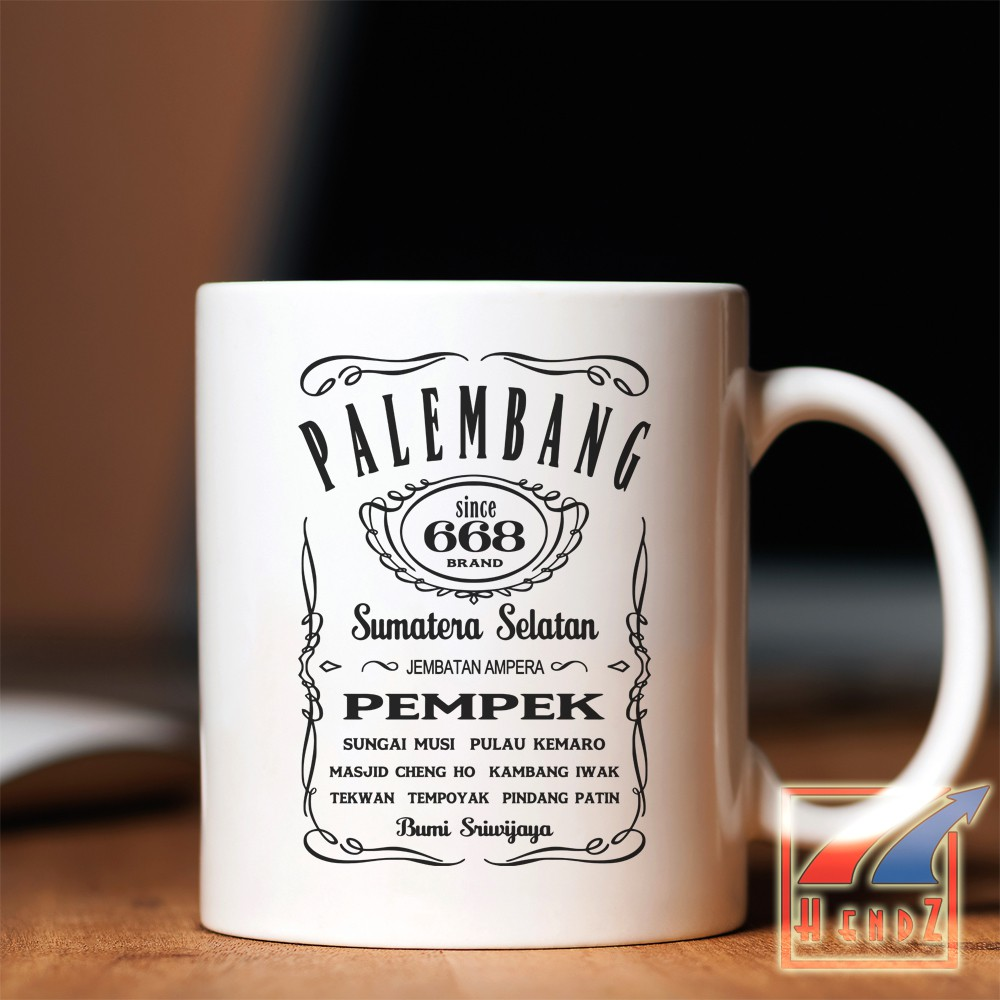gelas: (159, 248, 1000, 984)
